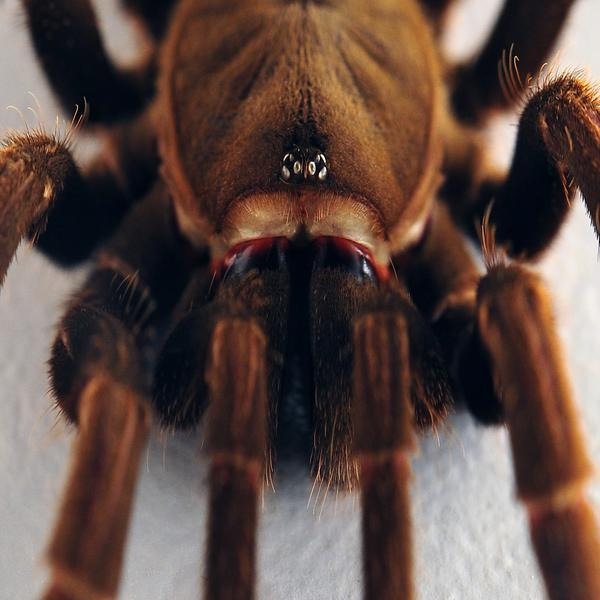Tarantula_Spider: (1, 1, 597, 600)
